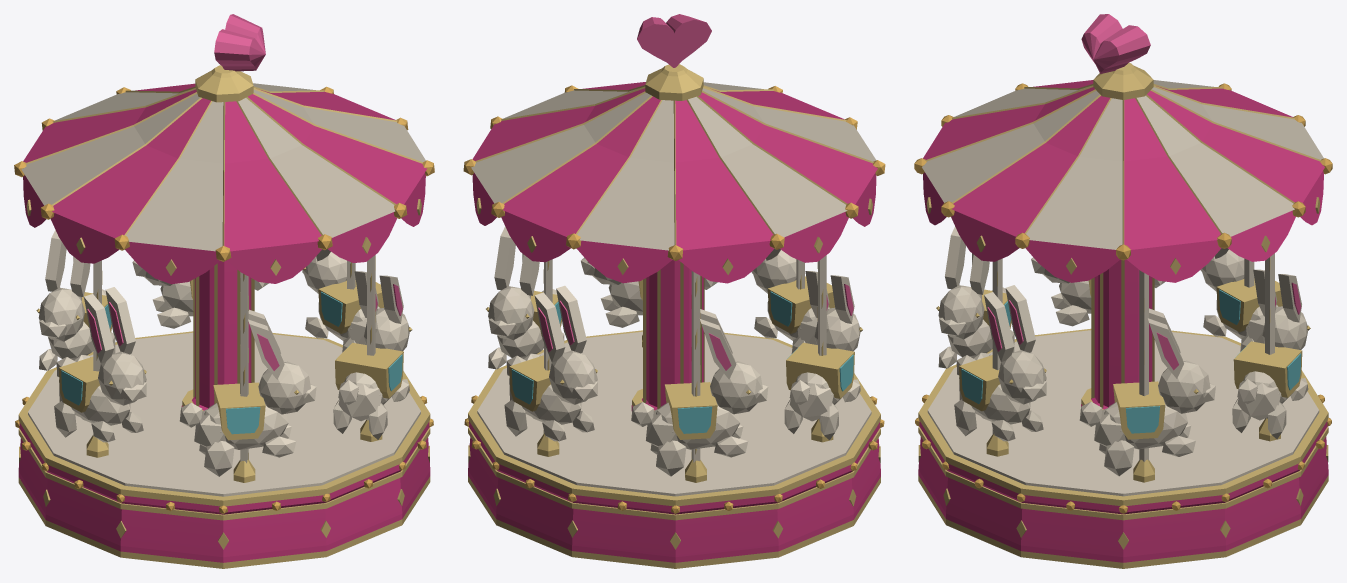
Rendered from carousel.glb.
3 views of the same model, side by side, from view 1: azimuth 30°, elevation 25°; view 2: azimuth 150°, elevation 25°; view 3: azimuth 270°, elevation 25° (orthographic).
Visible parts, largest first — view 1: spin_mesh, bob4_mesh, bob3_mesh, bob5_mesh, bob2_mesh, bob0_mesh, bob1_mesh; view 2: spin_mesh, bob2_mesh, bob1_mesh, bob3_mesh, bob0_mesh, bob4_mesh, bob5_mesh; view 3: spin_mesh, bob0_mesh, bob5_mesh, bob1_mesh, bob4_mesh, bob2_mesh, bob3_mesh.
Boxes of the visible parts, box(x1,y1,x2,y2) form: spin_mesh: box(14, 14, 434, 568); bob4_mesh: box(179, 309, 316, 476); bob3_mesh: box(54, 287, 146, 442); bob5_mesh: box(333, 271, 412, 439); bob2_mesh: box(36, 230, 115, 370); bob0_mesh: box(302, 249, 384, 352); bob1_mesh: box(132, 260, 268, 328); spin_mesh: box(463, 14, 885, 568); bob2_mesh: box(631, 309, 768, 476); bob1_mesh: box(504, 285, 597, 441); bob3_mesh: box(784, 271, 862, 440); bob0_mesh: box(486, 226, 564, 369); bob4_mesh: box(751, 248, 834, 353); bob5_mesh: box(581, 257, 717, 327); spin_mesh: box(914, 14, 1332, 568); bob0_mesh: box(1079, 308, 1215, 476); bob5_mesh: box(954, 285, 1046, 441); bob1_mesh: box(1232, 269, 1310, 439); bob4_mesh: box(936, 226, 1014, 368); bob2_mesh: box(1200, 248, 1282, 351); bob3_mesh: box(1031, 257, 1165, 326).
Size of the model in its own units: 7.5 by 9 by 7.4.
